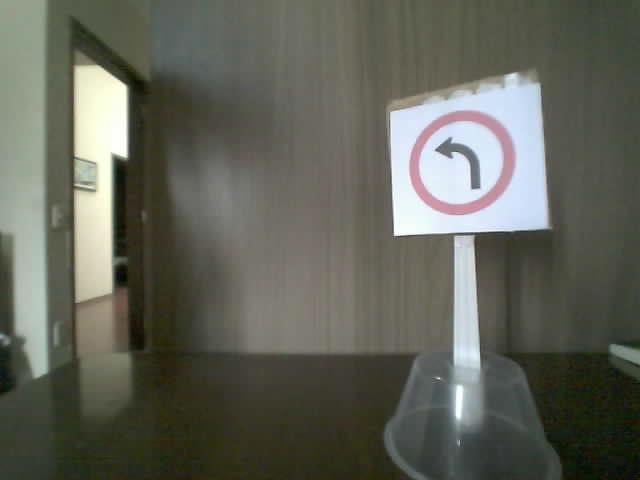R-25a_esquerda: (408, 109, 514, 215)
